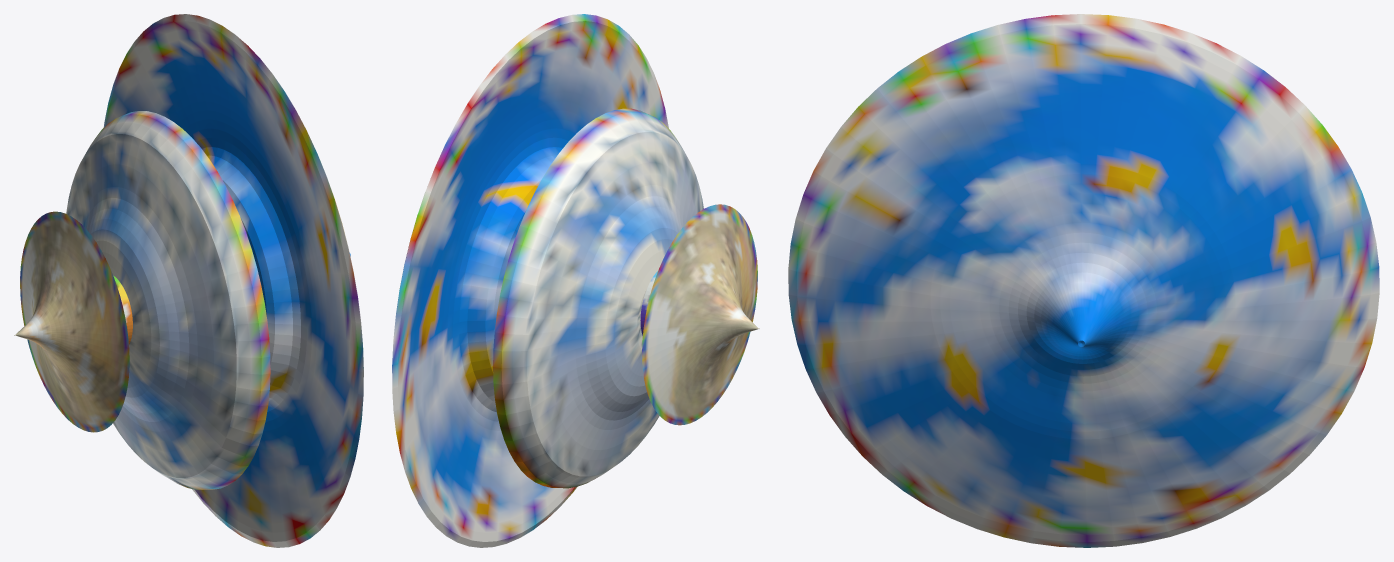
Rendered from april28outdoorpagoda.glb.
The picture shows the model from 3 angles, left to right: view 1: azimuth 30°, elevation 25°; view 2: azimuth 150°, elevation 25°; view 3: azimuth 270°, elevation 25°; orthographic projection. The views are drawn at different scales.
Parts seen in each view (by area): view 1: Lathe 4, Lathe 3, Lathe, Lathe.001; view 2: Lathe 4, Lathe 3, Lathe; view 3: Lathe 4.
Boxes of the visible parts, left/top/right/bottom form: Lathe 4: left=103, top=14, right=363, bottom=547; Lathe 3: left=66, top=111, right=270, bottom=489; Lathe: left=14, top=211, right=129, bottom=432; Lathe.001: left=113, top=275, right=132, bottom=344; Lathe 4: left=392, top=14, right=668, bottom=547; Lathe 3: left=493, top=108, right=703, bottom=488; Lathe: left=642, top=204, right=759, bottom=425; Lathe 4: left=788, top=14, right=1379, bottom=547.
Bounding box in the file's own units: 2.68 × 3.74 × 3.74.
